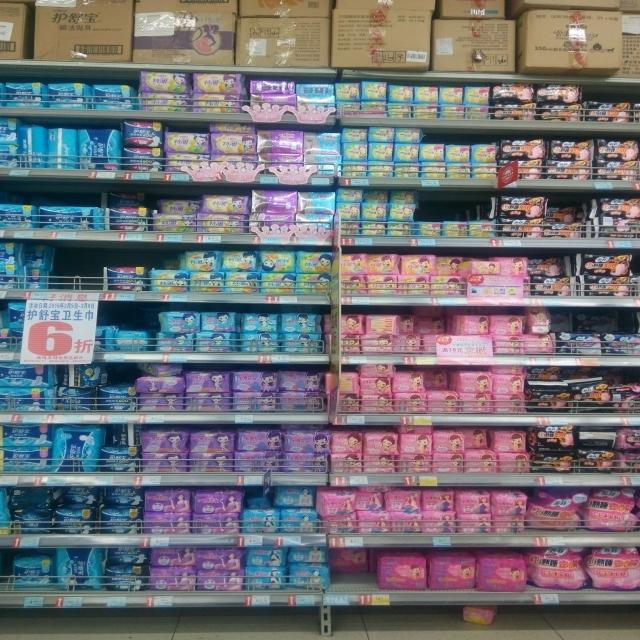void: (62, 245, 100, 301)
